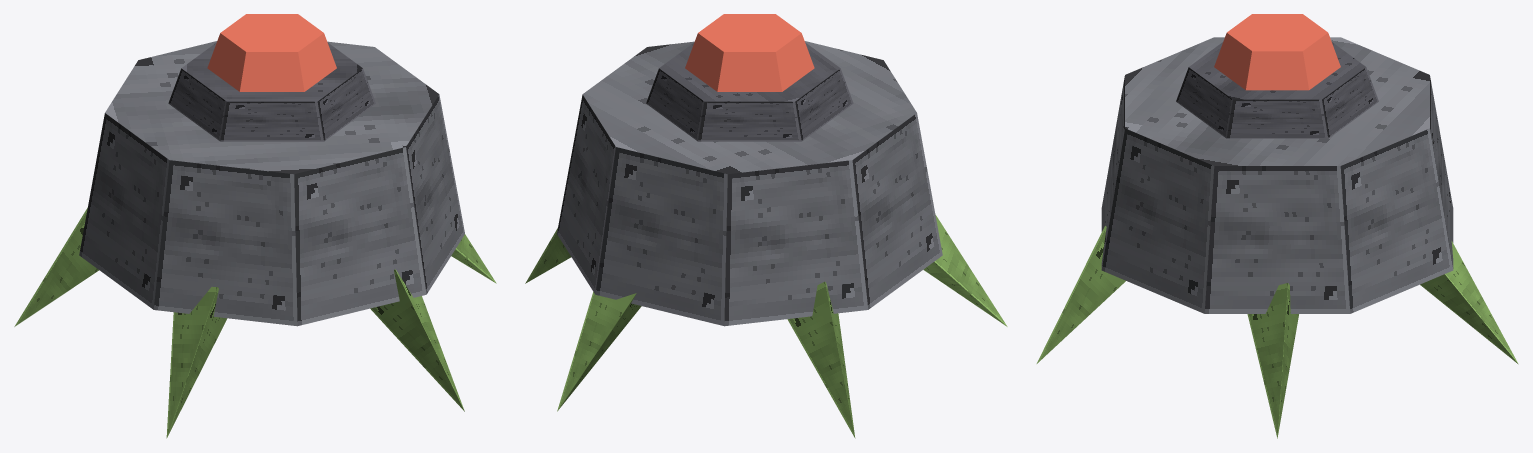
Rendered from proj_sticky.gltf.
3 renders of one model, left to right at view 1: azimuth 30°, elevation 25°; view 2: azimuth 150°, elevation 25°; view 3: azimuth 270°, elevation 25°, orthographic. The views are drawn at different scales.
Parts seen in each view (by area): view 1: body, glow; view 2: body, glow; view 3: body, glow.
Part boxes in pixels (<box>): body: <box>14,41,496,438</box>; glow: <box>207,14,336,91</box>; body: <box>525,41,1007,438</box>; glow: <box>685,14,814,91</box>; body: <box>1036,37,1518,438</box>; glow: <box>1214,14,1340,90</box>.
Bounding box in the file's own units: 0.1809 × 0.13 × 0.1902.
2 materials, 1 textured.
